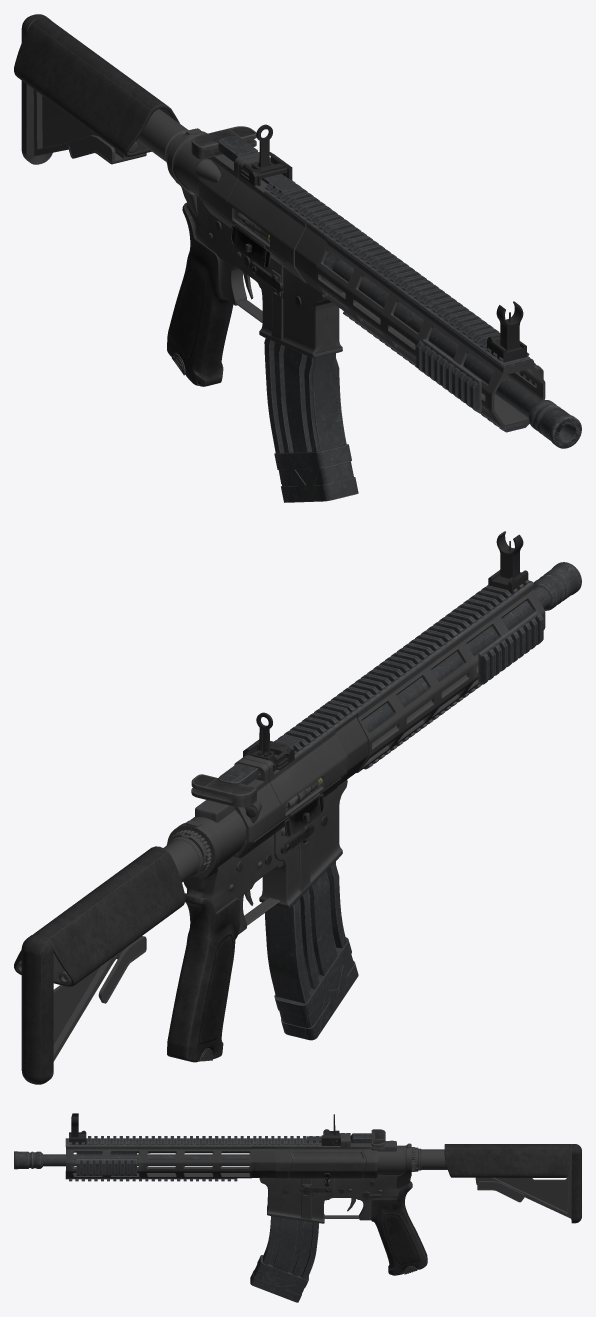
Rendered from gun.obj.
3 renders of one model, top to bottom at view 1: azimuth 30°, elevation 25°; view 2: azimuth 150°, elevation 25°; view 3: azimuth 270°, elevation 25°, orthographic. The views are drawn at different scales.
Parts seen in each view (by area): view 1: Body_Material_0, Stock_Material.017_0, Magazine_Material.015_0, Barrel_Material.012_0, Body_Material_0.001, IronSight_Material.013_0, Slide_Material.004_0; view 2: Body_Material_0, Stock_Material.017_0, Magazine_Material.015_0, Body_Material_0.001, Barrel_Material.012_0, IronSight_Material.013_0, Slide_Material.004_0; view 3: Body_Material_0, Stock_Material.017_0, Magazine_Material.015_0, Body_Material_0.001, Barrel_Material.012_0, IronSight_Material.013_0, Slide_Material.004_0.
Boxes of the visible parts, <box> form: Body_Material_0: <box>167,128,545,432</box>; Stock_Material.017_0: <box>14,14,188,164</box>; Magazine_Material.015_0: <box>264,283,358,502</box>; Barrel_Material.012_0: <box>320,251,581,448</box>; Body_Material_0.001: <box>167,131,342,358</box>; IronSight_Material.013_0: <box>240,124,526,362</box>; Slide_Material.004_0: <box>191,126,299,241</box>; Body_Material_0: <box>167,579,545,1062</box>; Stock_Material.017_0: <box>14,829,211,1084</box>; Magazine_Material.015_0: <box>265,843,358,1040</box>; Body_Material_0.001: <box>167,640,448,919</box>; Barrel_Material.012_0: <box>361,562,581,732</box>; IronSight_Material.013_0: <box>243,531,528,773</box>; Slide_Material.004_0: <box>191,737,322,809</box>; Body_Material_0: <box>65,1133,427,1275</box>; Stock_Material.017_0: <box>411,1144,581,1223</box>; Magazine_Material.015_0: <box>250,1193,319,1302</box>; Body_Material_0.001: <box>259,1141,411,1223</box>; Barrel_Material.012_0: <box>14,1151,250,1169</box>; IronSight_Material.013_0: <box>69,1113,340,1145</box>; Slide_Material.004_0: <box>306,1129,385,1150</box>.
Size of the model in its own units: 0.929 by 4.39 by 12.26.
